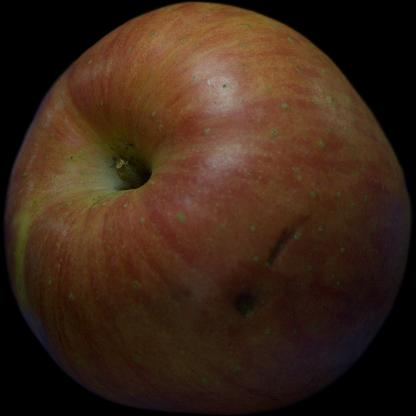defect: (199, 198, 341, 324)
